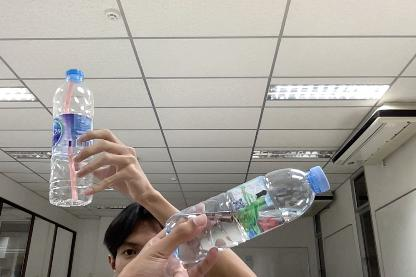Plastic Bottle: (158, 157, 334, 267), (46, 58, 100, 214)
